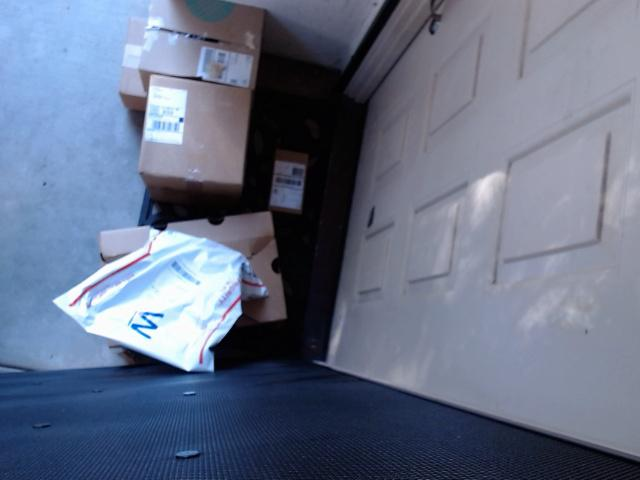box: (86, 207, 303, 336), (135, 71, 275, 201), (110, 3, 276, 94), (262, 136, 330, 230)
plastic_bag: (34, 228, 275, 369)
